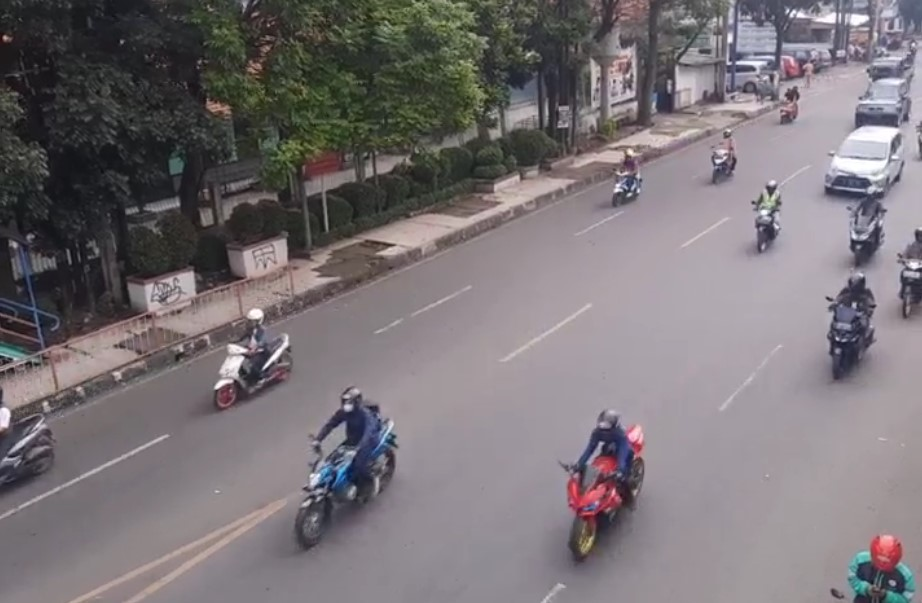motor: (287, 390, 402, 549), (558, 403, 646, 554), (199, 304, 297, 416), (819, 275, 883, 372), (836, 185, 892, 261), (746, 179, 783, 254), (603, 149, 650, 206), (706, 131, 743, 183)
